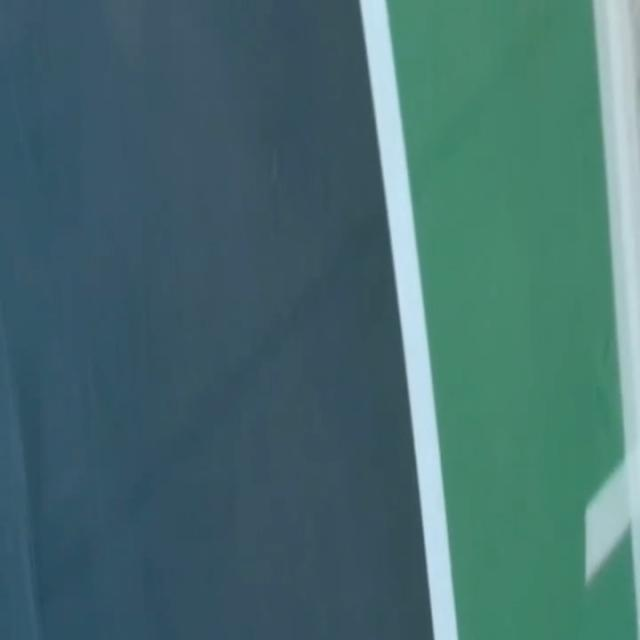right: (359, 0, 457, 639)
